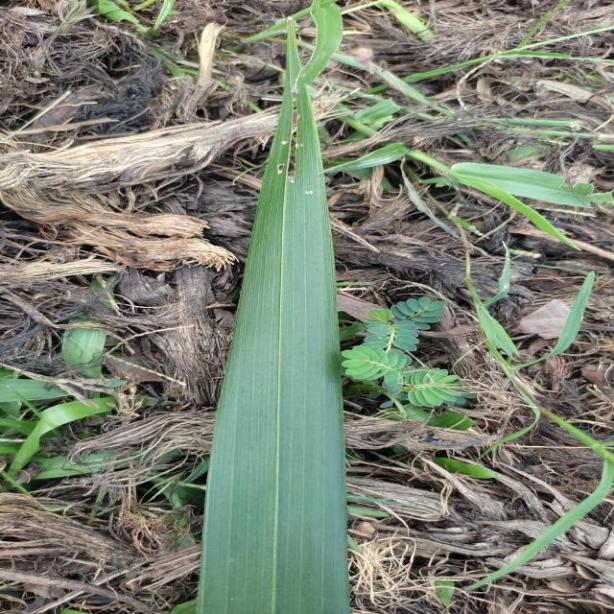Boron: (197, 12, 348, 614)
